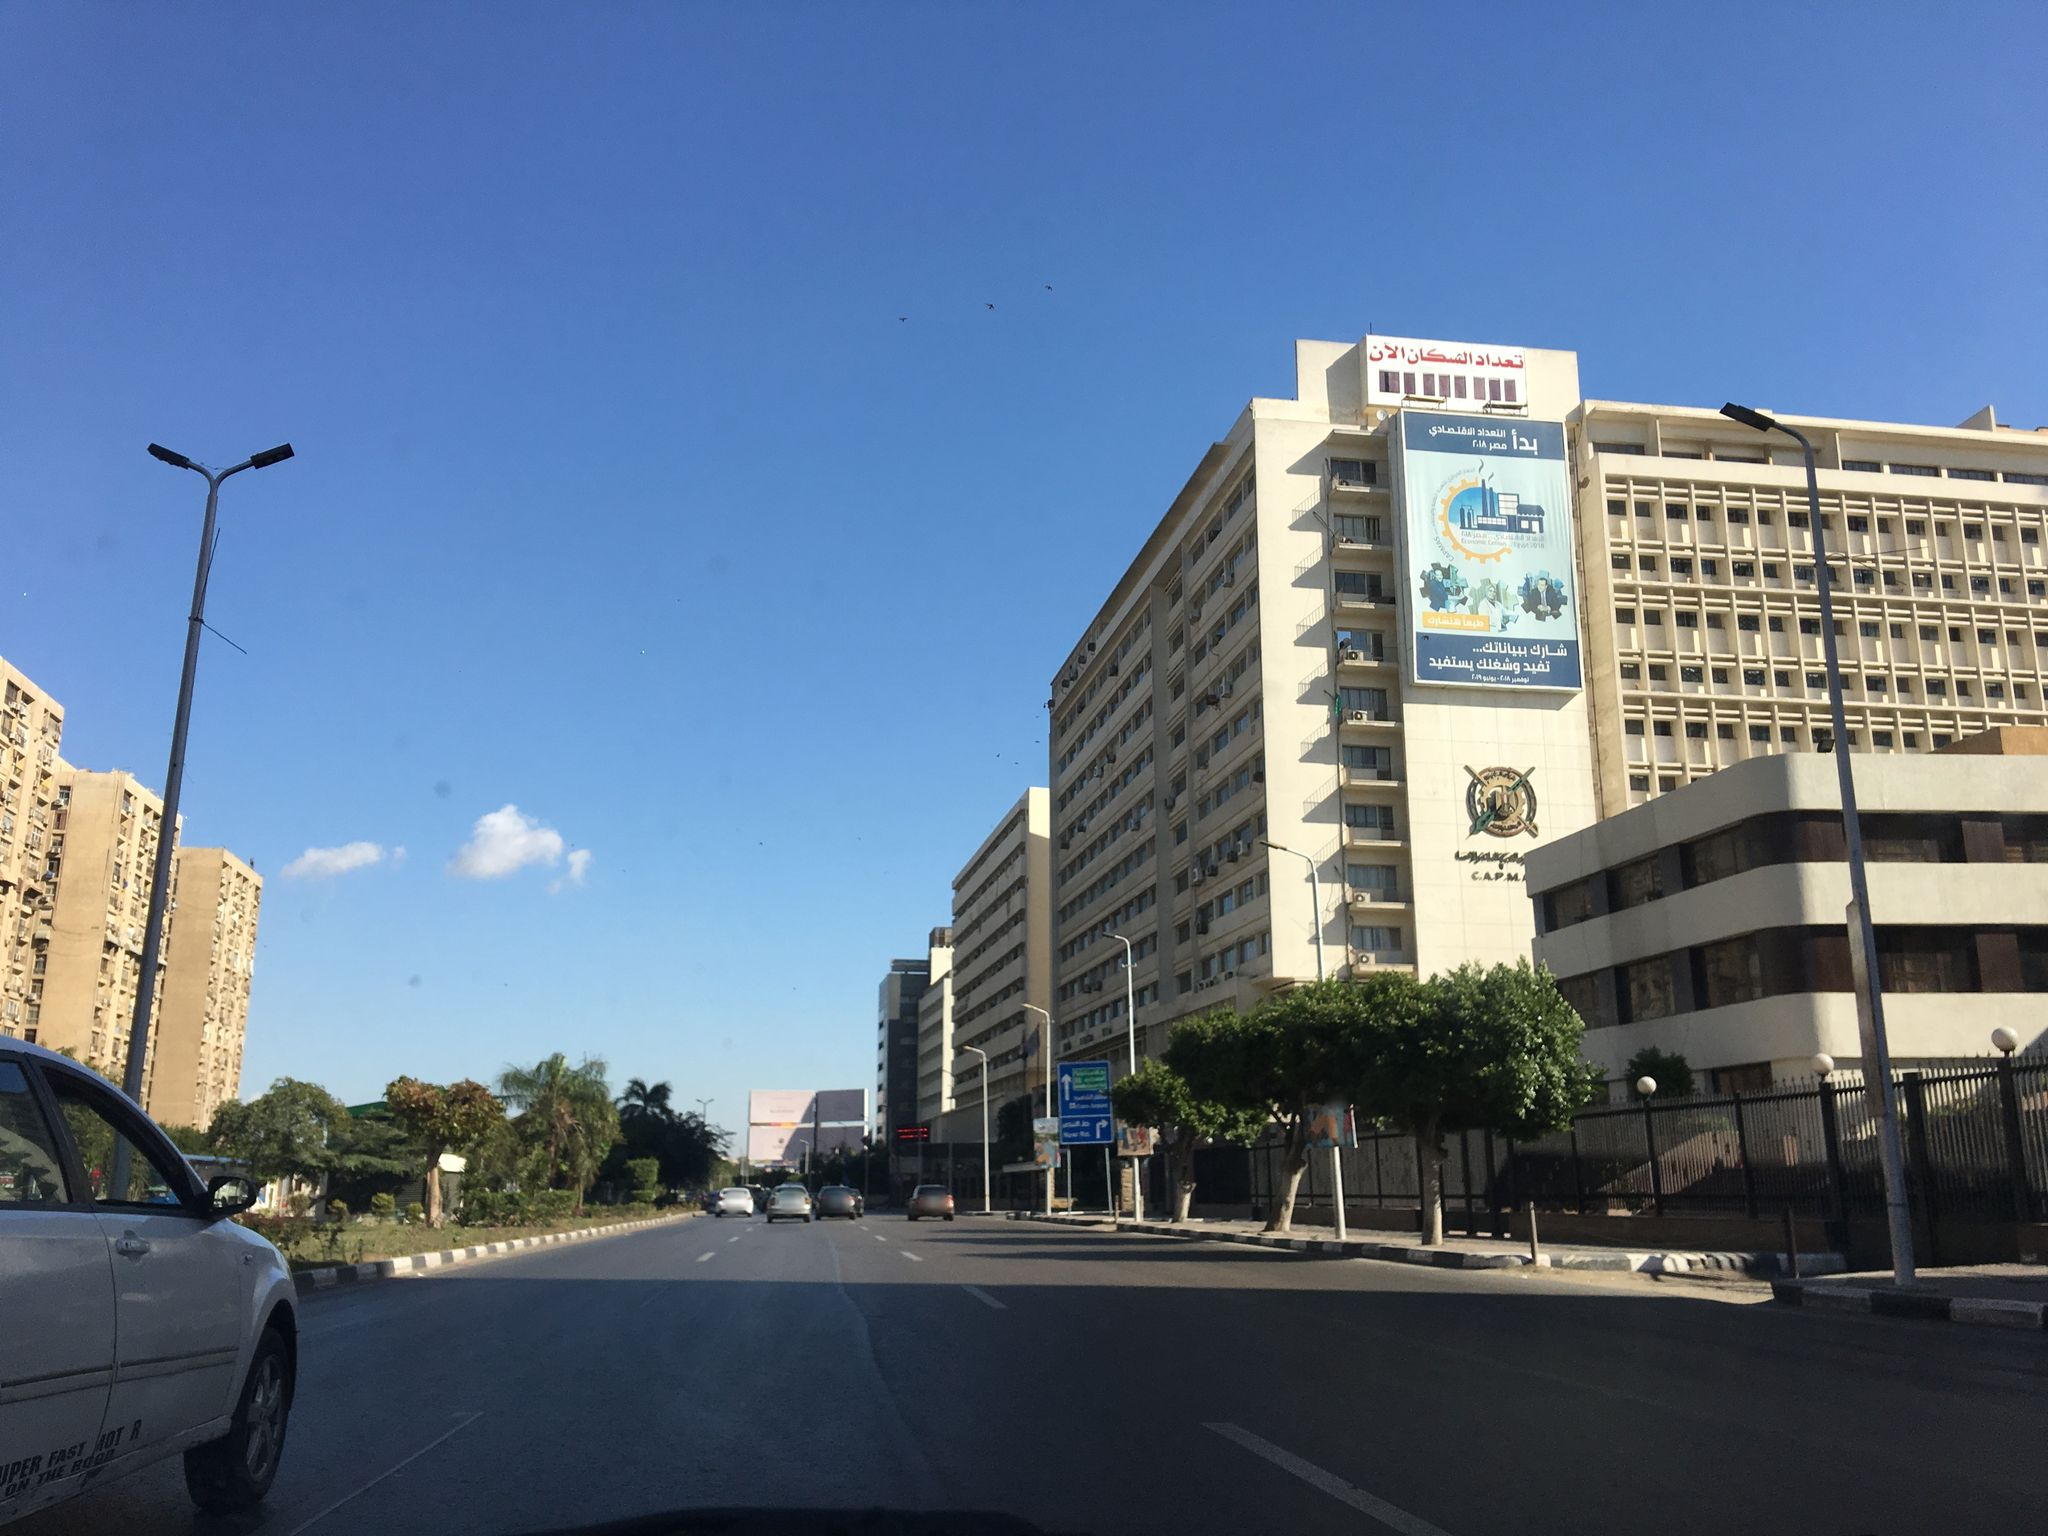car: (0, 1041, 302, 1526), (905, 1183, 955, 1220), (764, 1184, 813, 1221), (814, 1184, 856, 1218), (714, 1186, 753, 1217)
